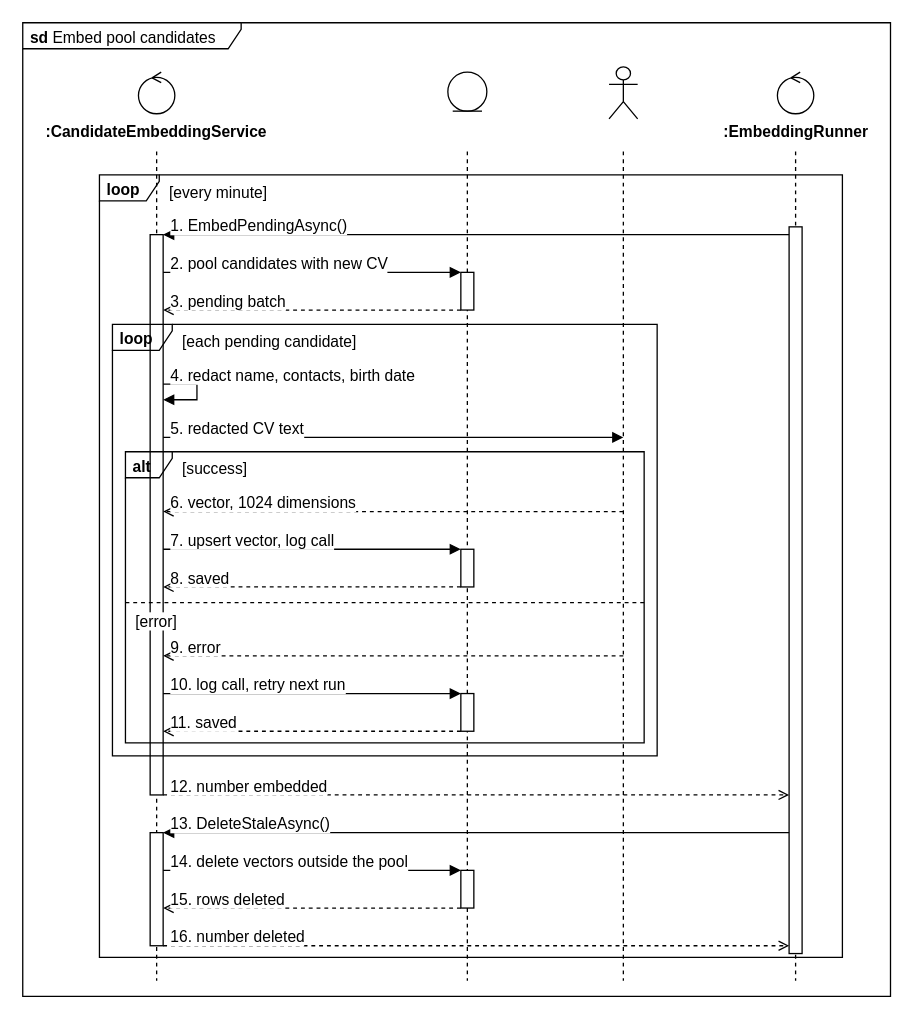
Image size: 914x1019. Some labels were removed from this diagram. The shapes that lost their labels are listed below. From the top down, each one's centre as x and y in pixels, then its label:
At point (467, 91): ":Database".
At point (623, 92): "Embedding API".
